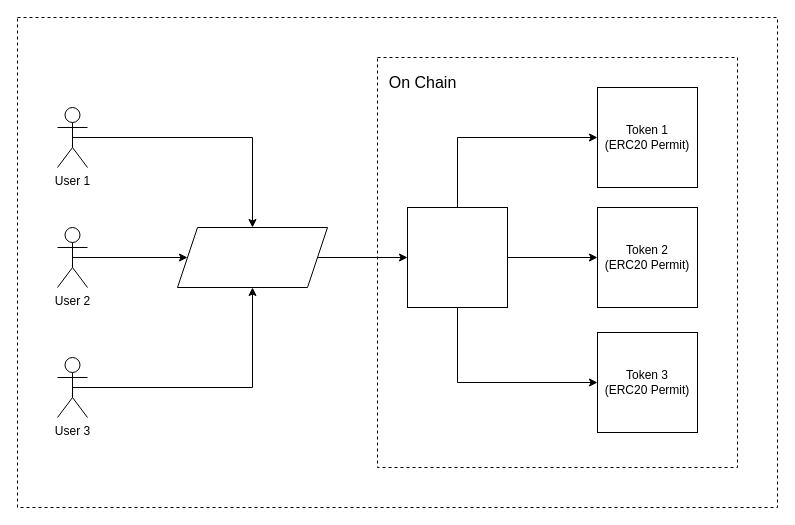
This 795x525 diagram has some shape labels left out. Each missing label, with the centre of its shape:
"Forwarder Contract" belongs at (x=457, y=257).
"Relayer Service" belongs at (x=252, y=257).
